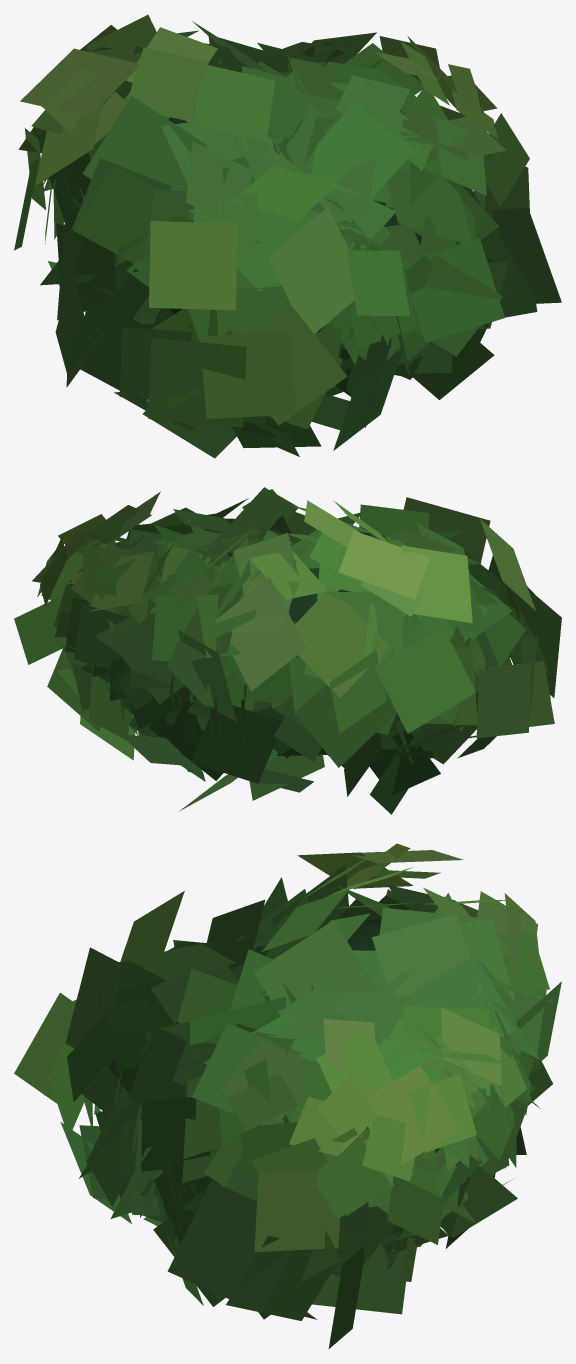
Rendered from bush_b.glb.
The picture shows the model from 3 angles, top to bottom: view 1: azimuth 30°, elevation 25°; view 2: azimuth 150°, elevation 25°; view 3: azimuth 270°, elevation 25°; orthographic projection. The views are drawn at different scales.
Visible parts, largest first — view 1: LeafCards; view 2: LeafCards, Leaves; view 3: LeafCards, Leaves.
Boxes of the visible parts, <box> form: LeafCards: <box>14,14,561,458</box>; LeafCards: <box>14,487,561,814</box>; Leaves: <box>289,568,351,621</box>; LeafCards: <box>14,843,561,1348</box>; Leaves: <box>347,920,440,1153</box>.
Size of the model in its own units: 1.65 by 1.15 by 1.53.
